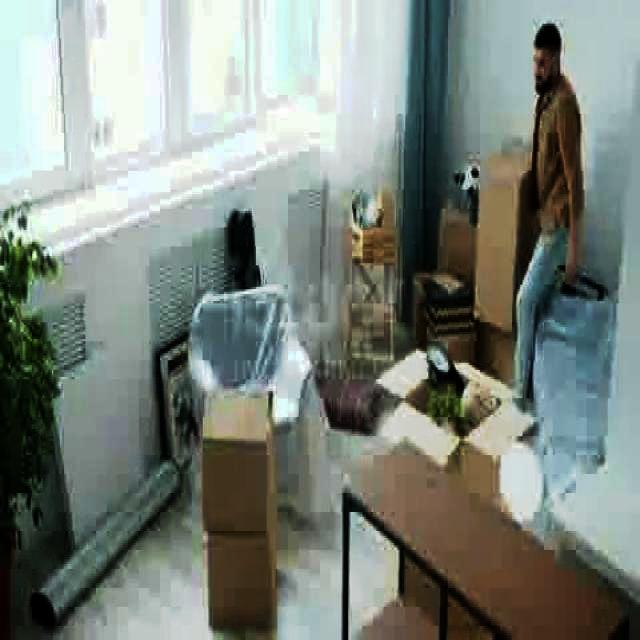Box: (198, 398, 278, 524), (209, 526, 279, 626)
